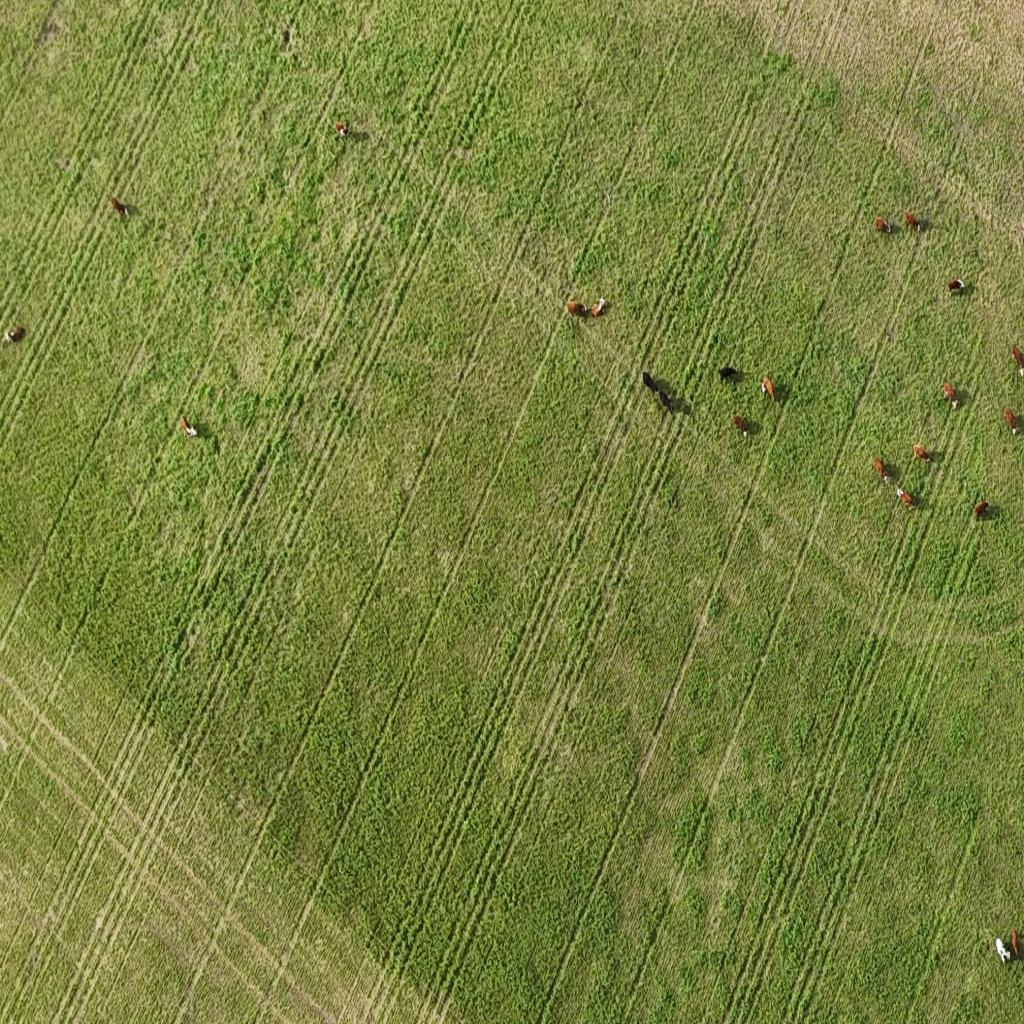cow: (873, 456, 889, 484), (942, 382, 958, 409), (1004, 407, 1018, 437), (761, 376, 775, 406), (566, 299, 588, 318), (732, 414, 748, 440), (642, 371, 658, 397), (913, 443, 931, 466), (658, 388, 673, 414), (4, 326, 25, 344), (718, 365, 739, 383), (896, 487, 913, 509), (110, 197, 128, 217), (591, 296, 606, 319), (974, 500, 990, 521), (874, 216, 890, 236), (904, 210, 919, 231), (948, 278, 964, 297), (183, 420, 199, 439), (335, 120, 347, 140), (1017, 345, 1024, 377)
